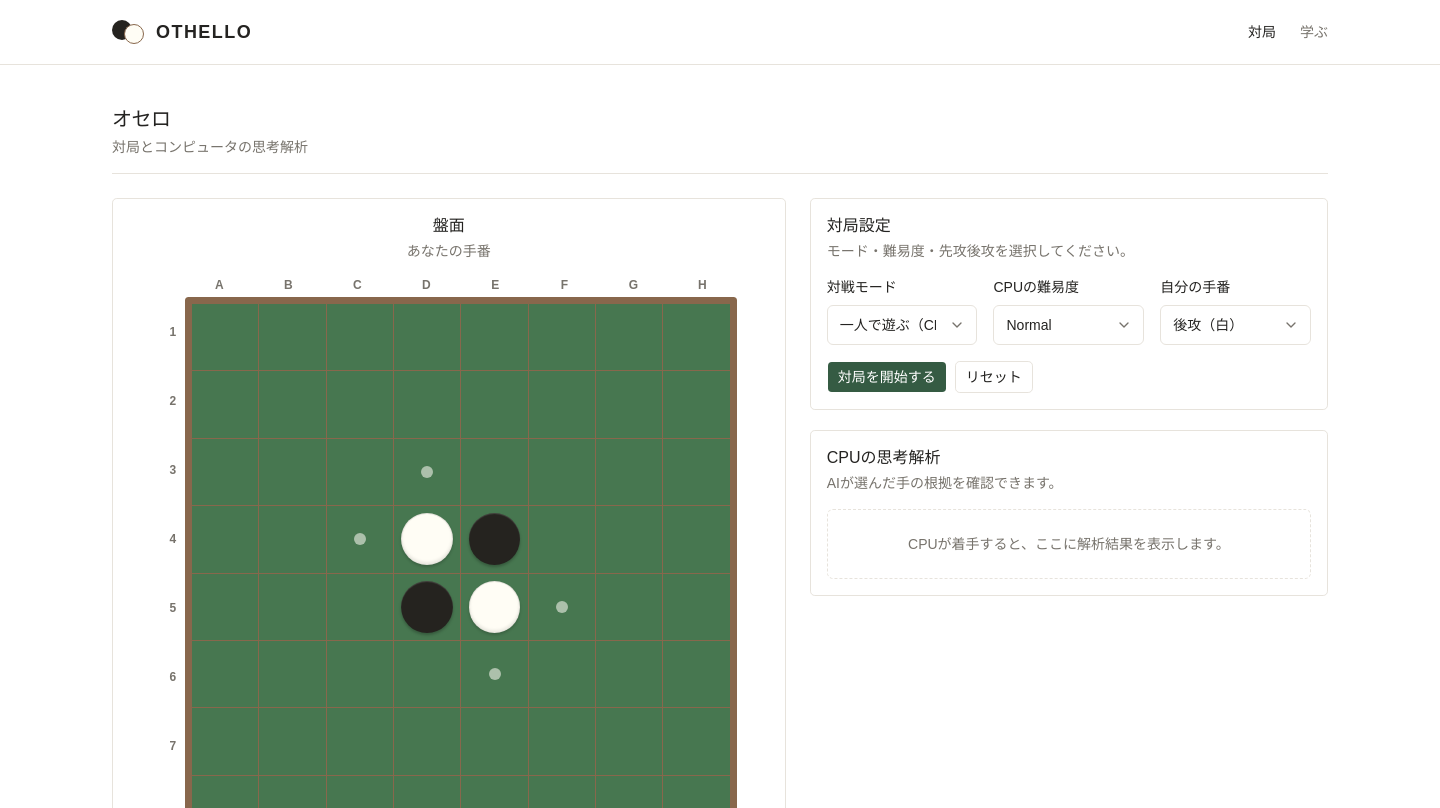
Test: App › リセットすると人間先攻へ戻る
Expected: the dropdown labelled "自分の手番" shows "後攻（白）", [1160,305,1311,345]
Click the button "リセット" at point(994, 377), box [955,361,1033,393]
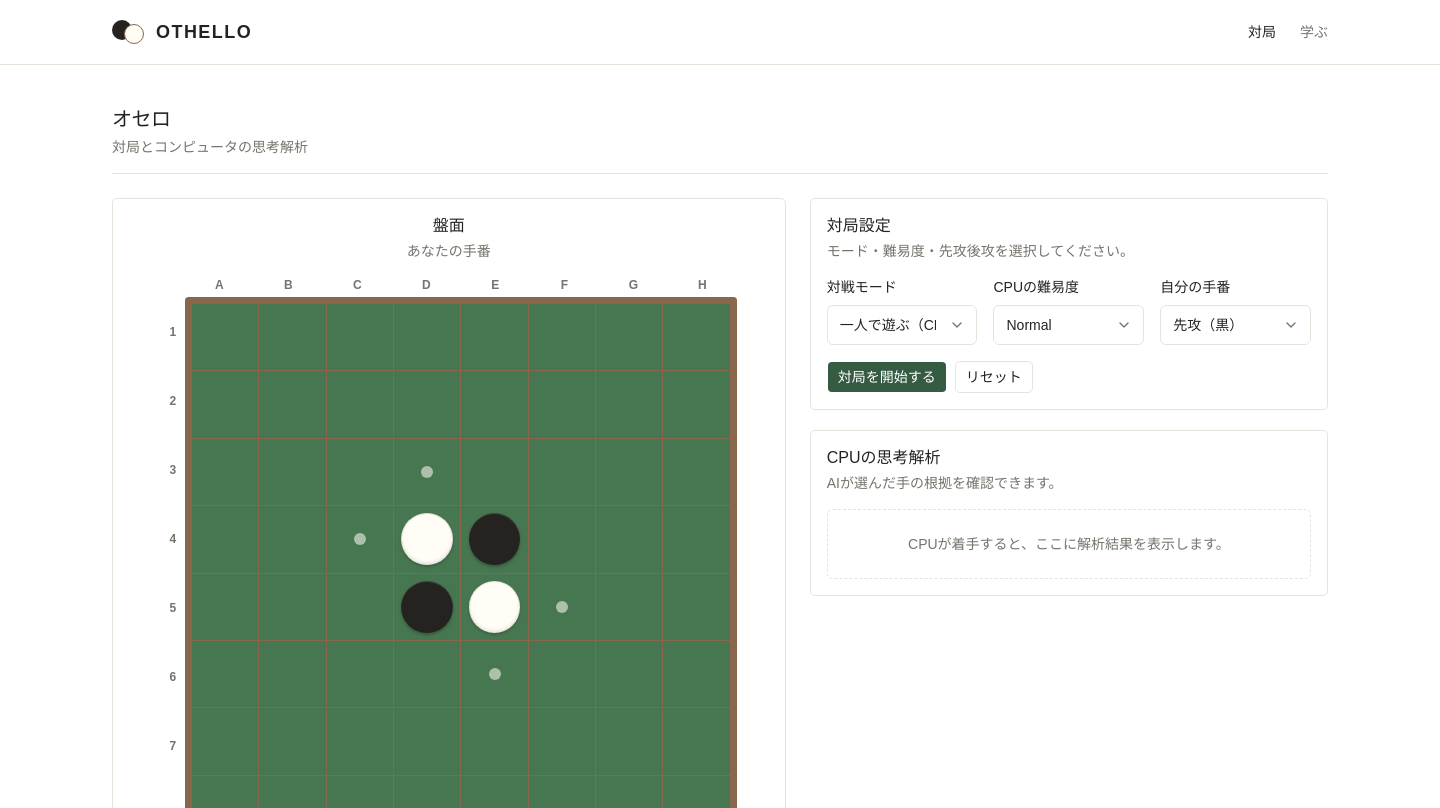
Expected: the dropdown labelled "自分の手番" shows "先攻（黒）", [1160,305,1311,345]
